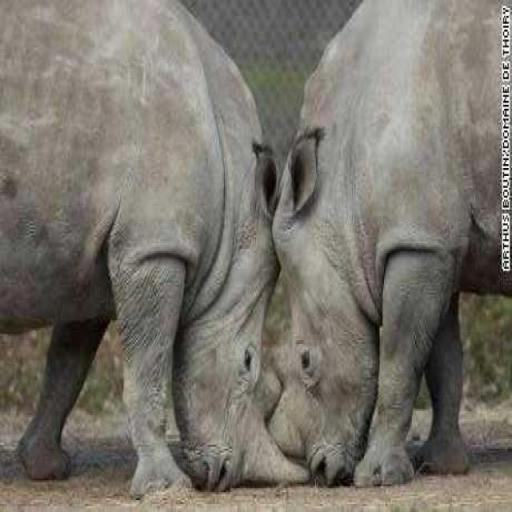Rhino: (0, 0, 309, 498), (266, 0, 510, 488)
